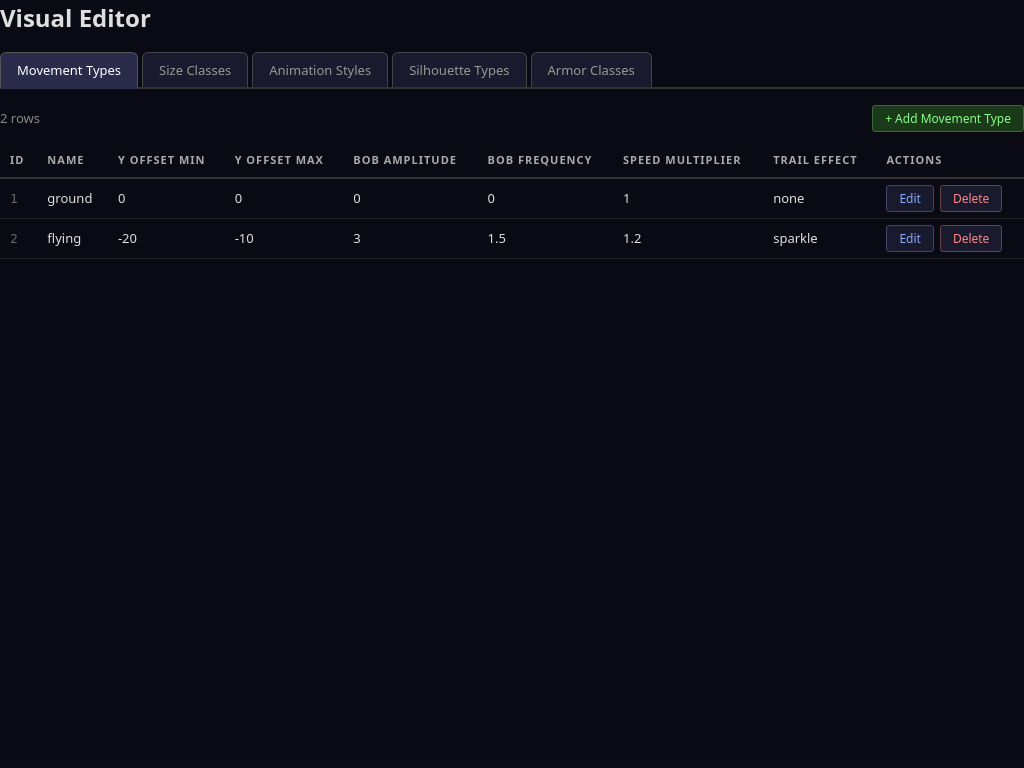
Scenario: VisualEditor › shows add modal when clicking add button
The image size is (1024, 768).
Expected: the text "ground" is shown, top-left (37, 178), bottom-right (108, 218)
Click the button "+ Add Movement Type" at point(948, 118), box top-left (872, 105), bottom-right (1023, 132)
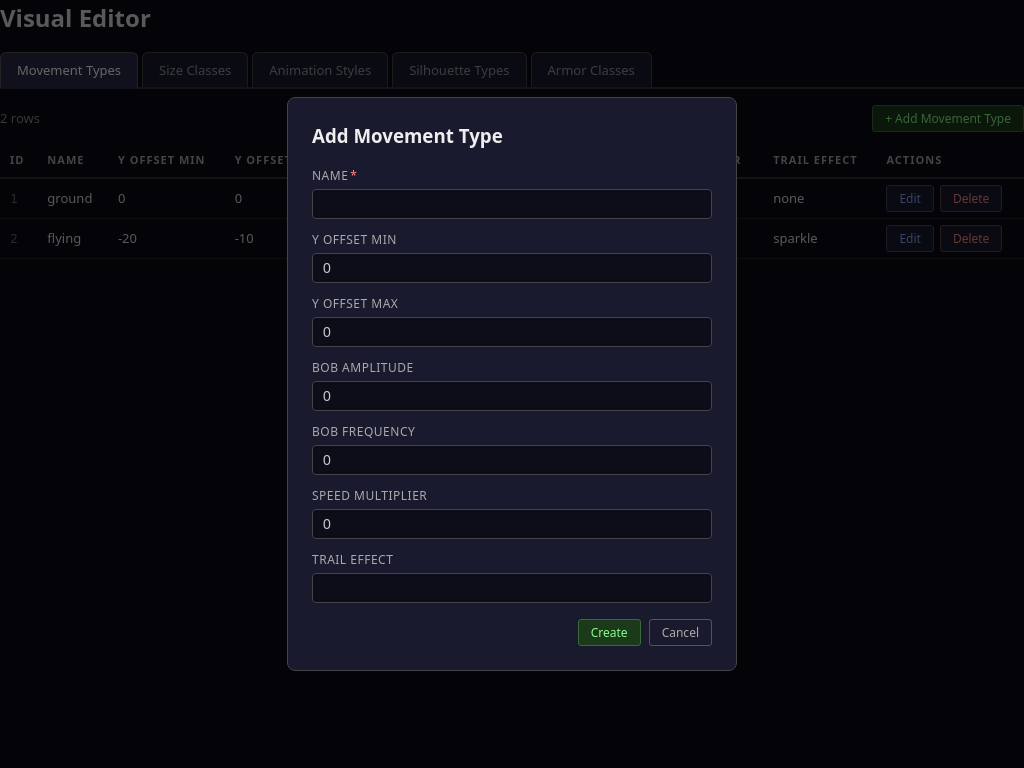
Expected: the button "Create" is shown, top-left (578, 618), bottom-right (641, 646)
Expected: the heading "Add Movement Type" is shown, top-left (312, 124), bottom-right (503, 148)
